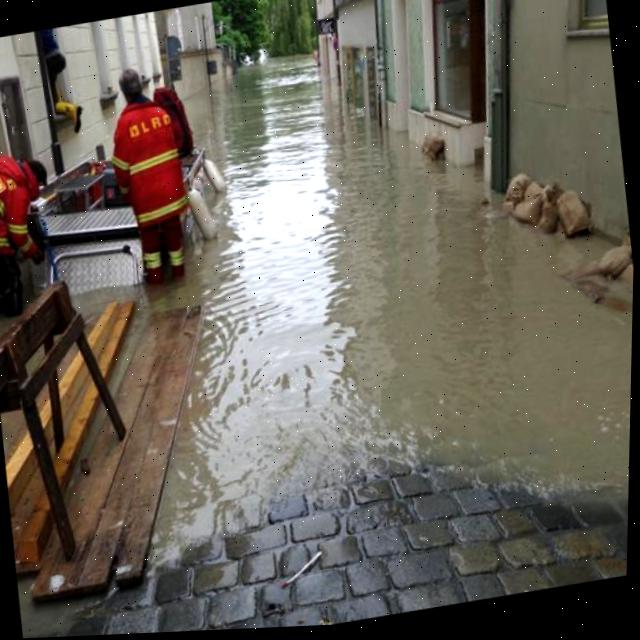rescuer: (94, 49, 226, 314), (0, 119, 72, 325)
